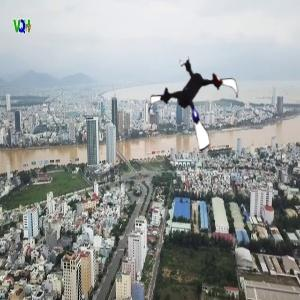drone: (147, 55, 245, 153)
